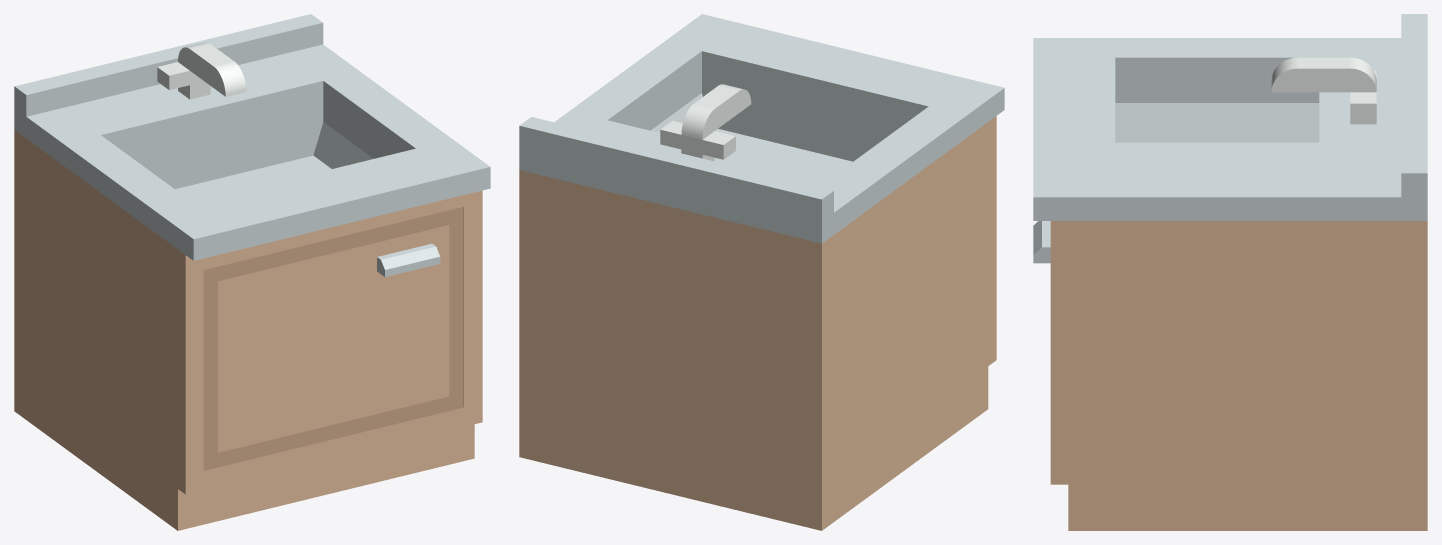
File: sink.glb
3 renders of one model, left to right at view 1: azimuth 30°, elevation 25°; view 2: azimuth 150°, elevation 25°; view 3: azimuth 270°, elevation 25°, orthographic. The views are drawn at different scales.
Parts seen in each view (by area): view 1: kitchenSink(Clone), door.008; view 2: kitchenSink(Clone); view 3: kitchenSink(Clone), door.008.
Part boxes in pixels (x1,y1,x2,y2): kitchenSink(Clone): [14, 14, 490, 530]; door.008: [203, 207, 463, 470]; kitchenSink(Clone): [519, 14, 1004, 530]; kitchenSink(Clone): [1033, 14, 1427, 530]; door.008: [1033, 221, 1050, 263].
Bounding box in the file's own units: 0.43 × 0.49 × 0.45.
